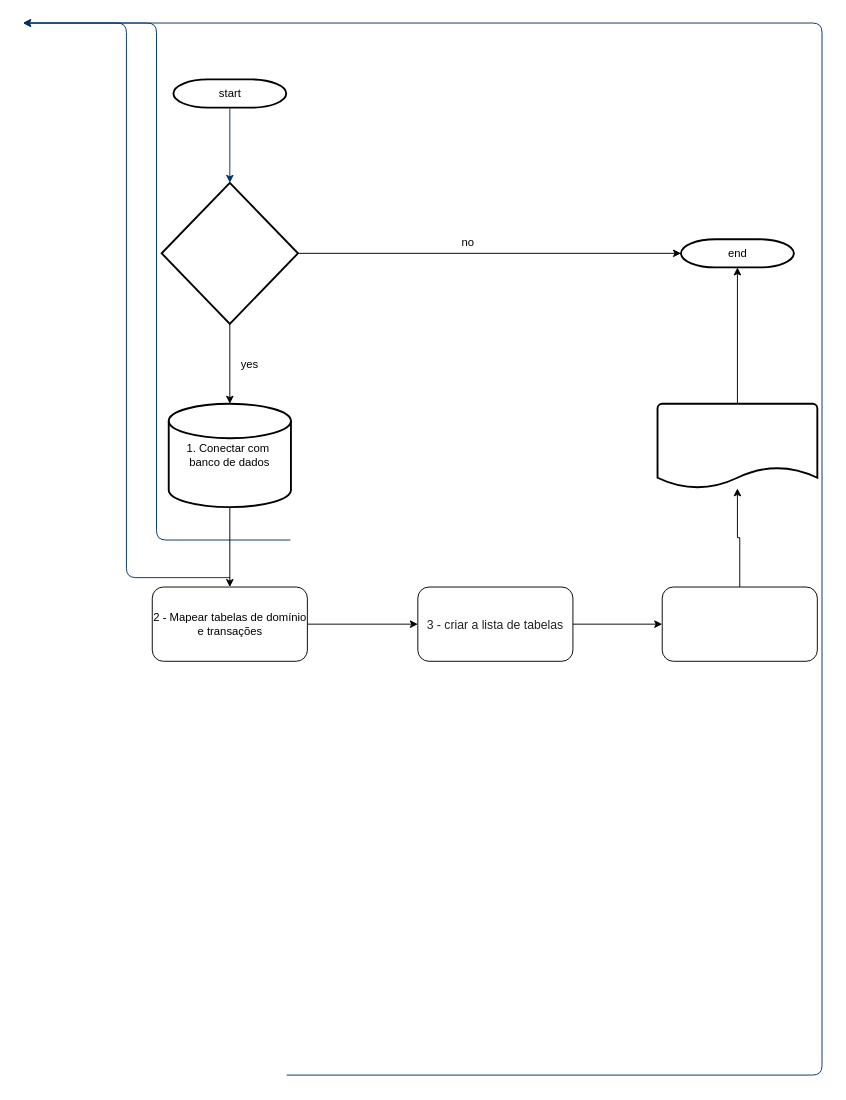
This 846x1100 diagram has some shape labels left out. The shapes that lost their labels are listed below. From the top down, each one's centre as x and y in pixels, then its label:
At (x=229, y=252): "Ter acesso de ADM?".
At (x=737, y=445): "4 - Enviar documentação do trabalho".
At (x=739, y=623): "4 - Criar Scripts de inserção nas tabelas".
